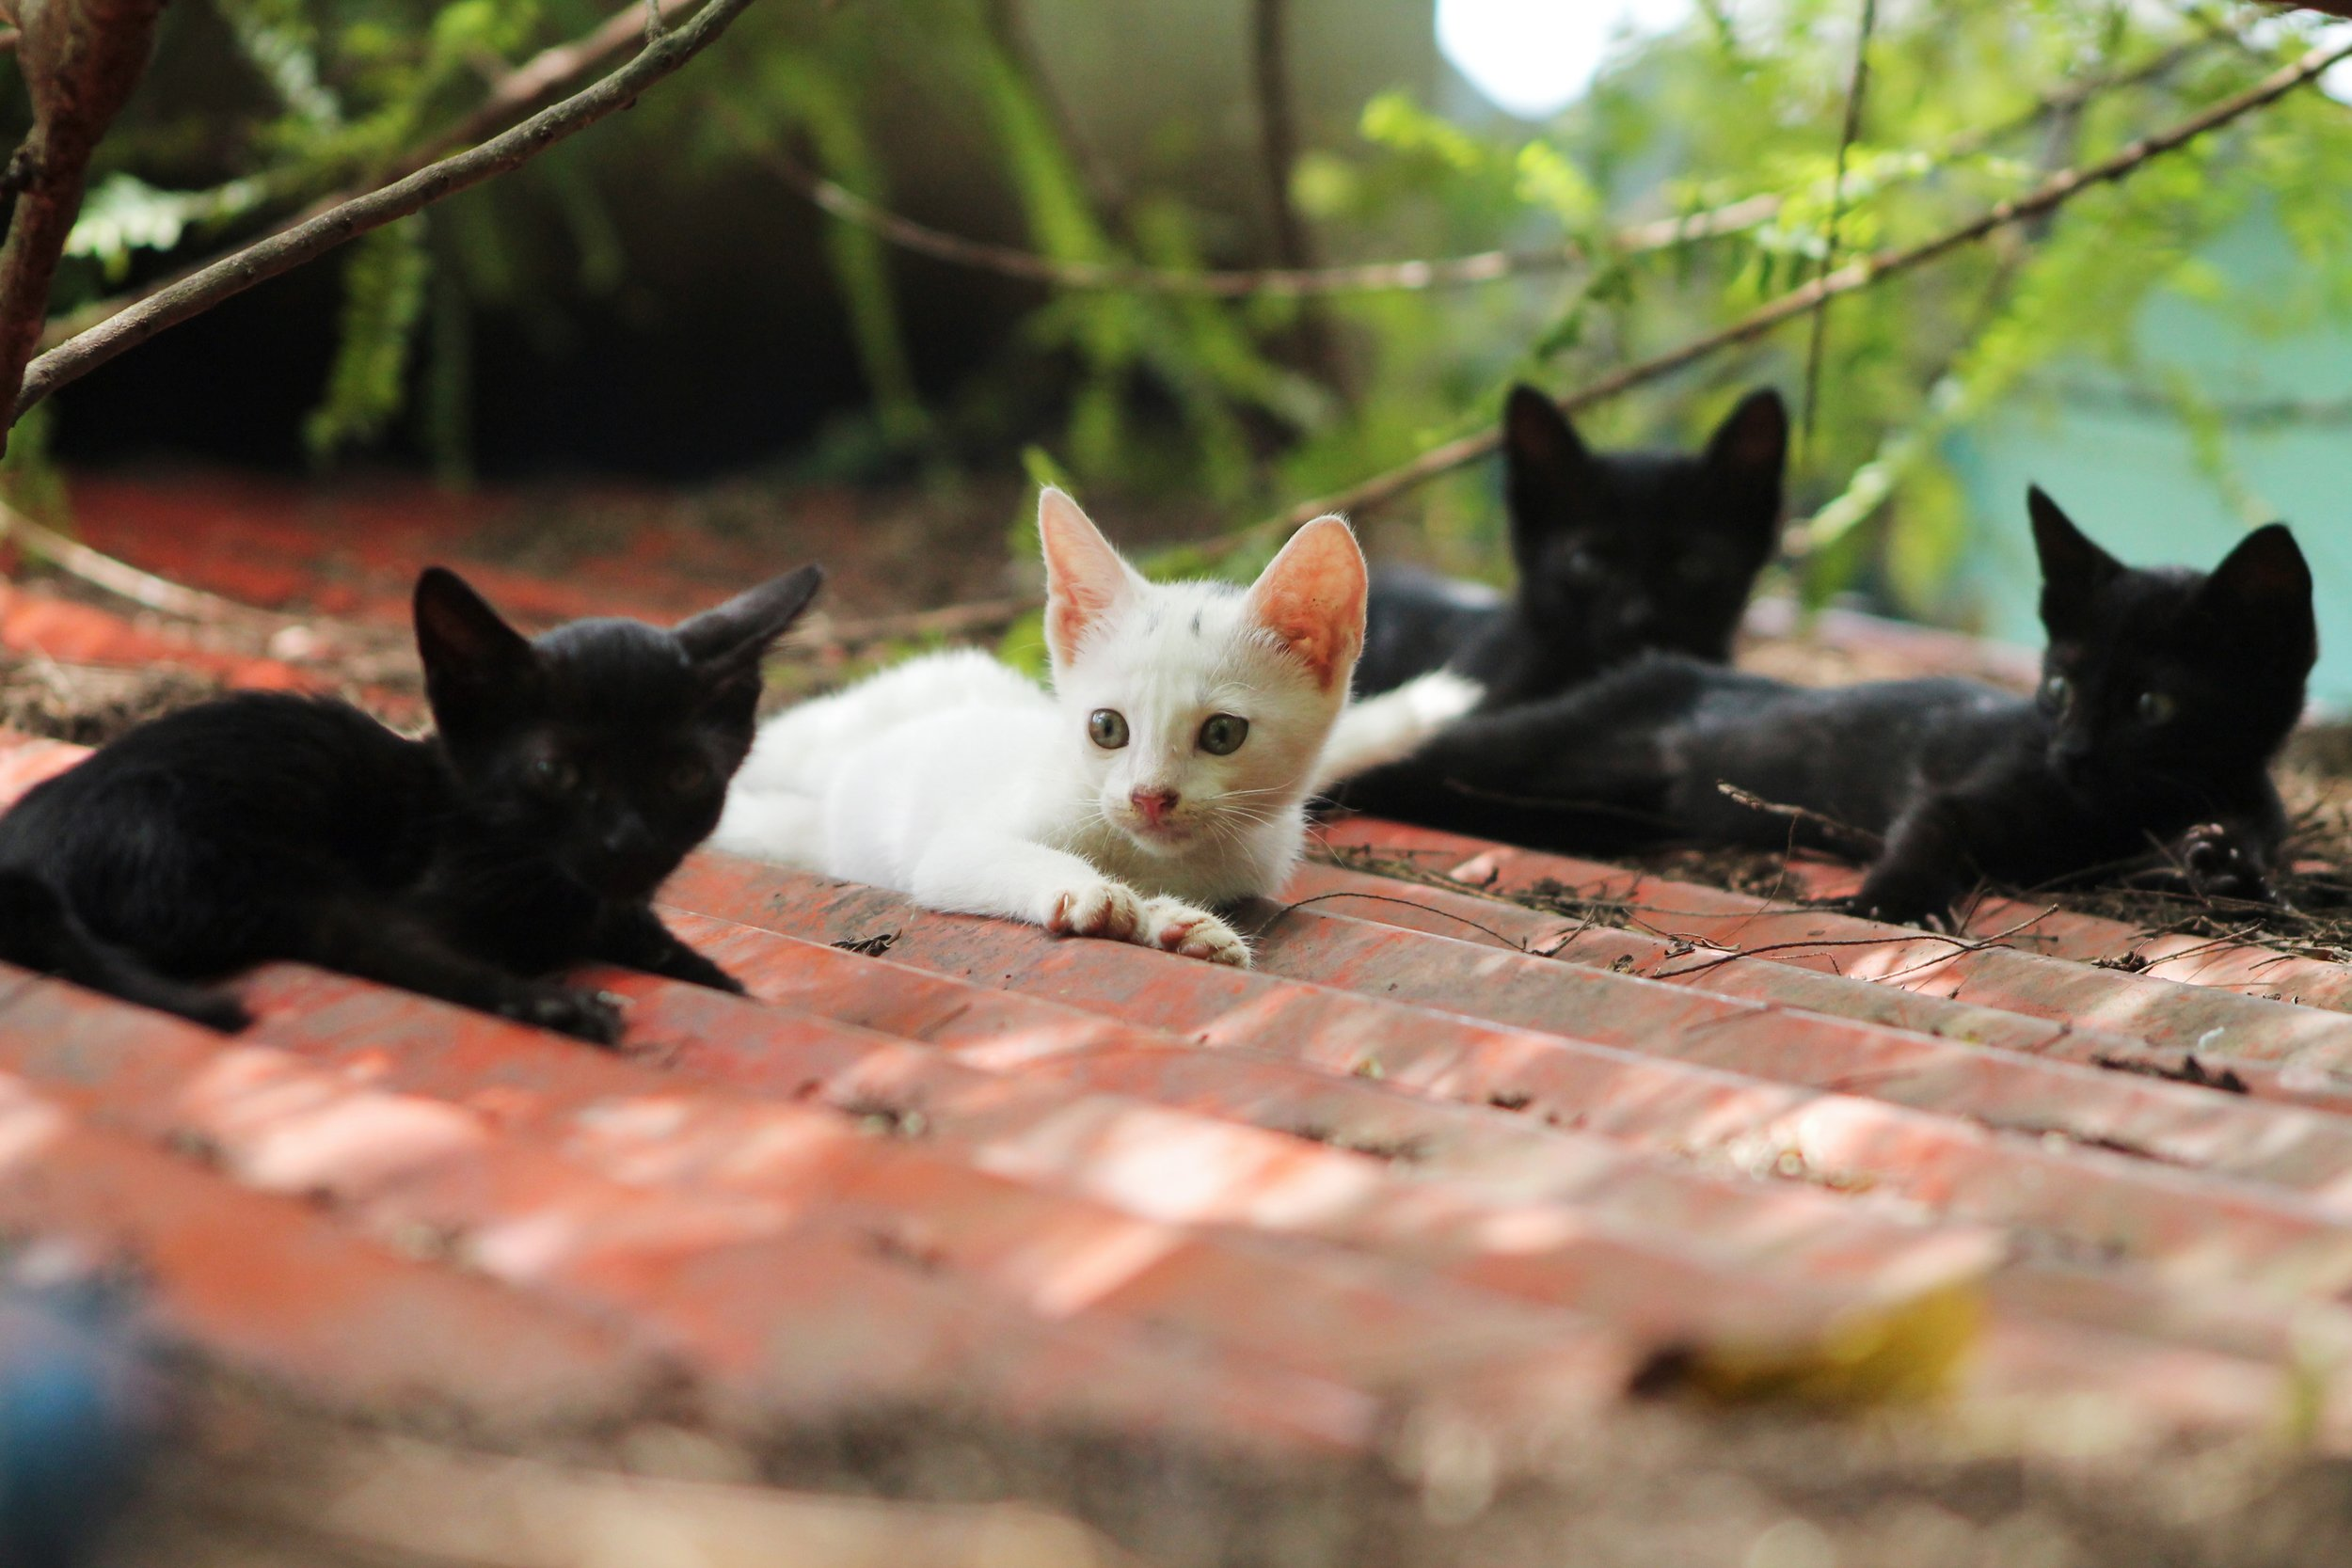Cat: (992, 458, 1402, 934)
